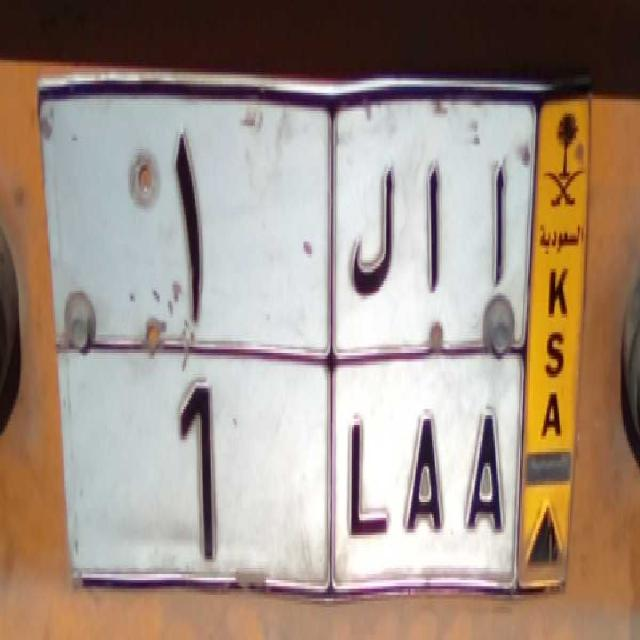license_plate: (90, 350, 514, 607)
